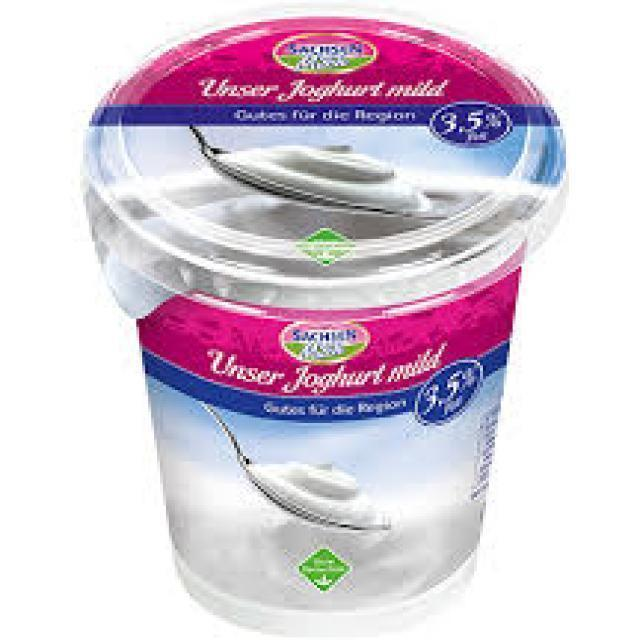Plastic: (82, 16, 570, 640)
